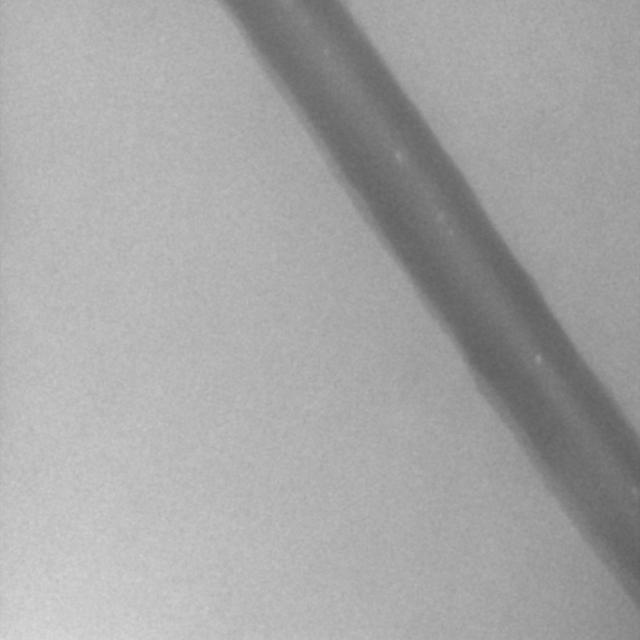air-hole: (393, 148, 403, 165), (631, 487, 640, 499), (536, 354, 544, 366), (322, 46, 329, 53), (290, 0, 294, 8), (451, 235, 454, 243), (306, 23, 308, 30), (441, 210, 442, 223)
